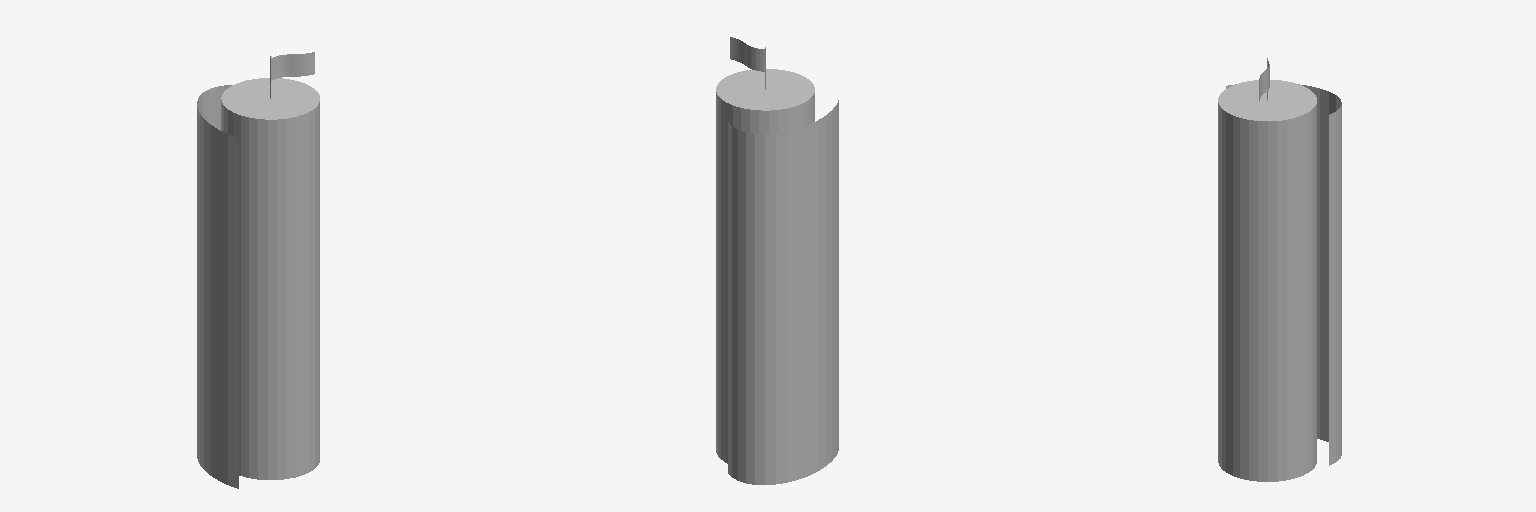
The model's file is Sugar City Building 1.obj.
The picture shows the model from 3 angles: view 1: azimuth 30°, elevation 25°; view 2: azimuth 150°, elevation 25°; view 3: azimuth 270°, elevation 25°; orthographic projection.
Parts seen in each view (by area): view 1: MainBuilding, GlassWall, Flag, MainBuildingBase; view 2: GlassWall, MainBuilding, Flag; view 3: MainBuilding, GlassWall, MainBuildingBase.
Boxes of the visible parts, x1,y1,x2,y2 form: MainBuilding: [221, 78, 319, 469]; GlassWall: [197, 85, 238, 488]; Flag: [271, 52, 314, 80]; MainBuildingBase: [239, 452, 319, 479]; GlassWall: [728, 100, 838, 484]; MainBuilding: [716, 69, 814, 452]; Flag: [730, 37, 764, 71]; MainBuilding: [1218, 80, 1316, 470]; GlassWall: [1226, 84, 1341, 465]; MainBuildingBase: [1218, 453, 1316, 481].
Size of the model in its own units: 0.6 by 2.25 by 0.625.